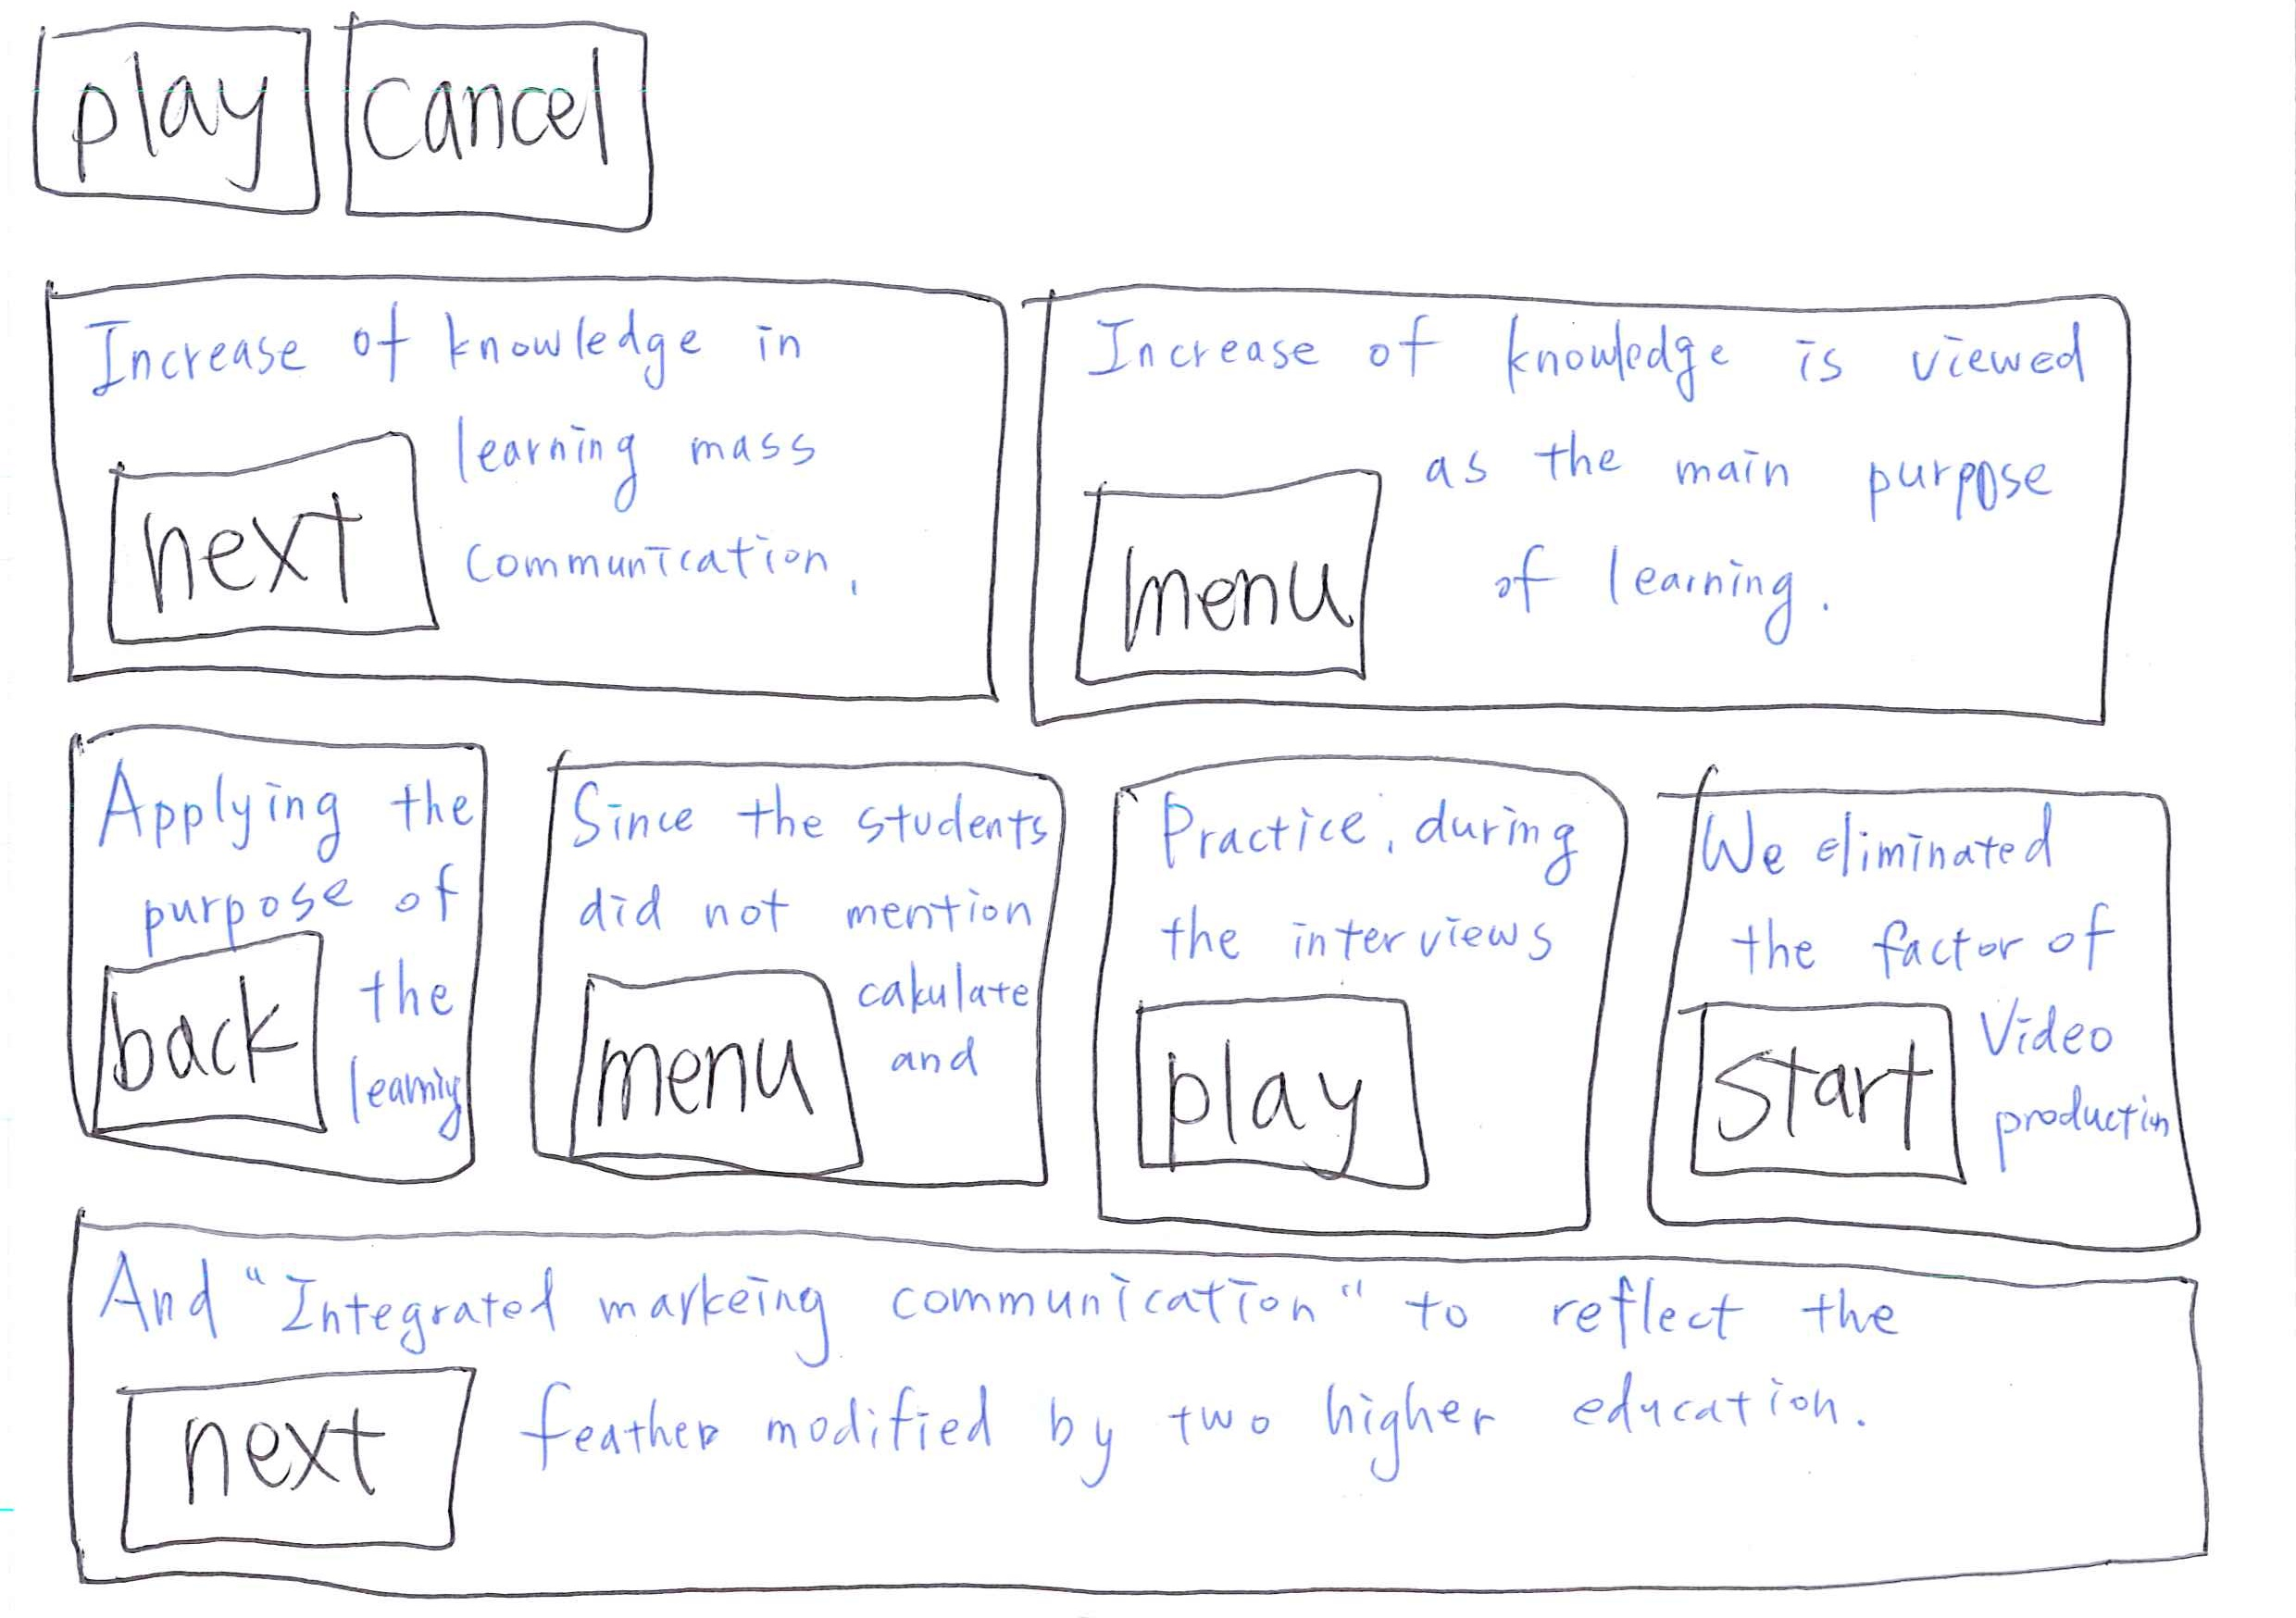back: (89, 925, 342, 1161)
cancel: (320, 2, 692, 247)
double: (1012, 210, 2259, 762), (28, 219, 1025, 739)
menu: (548, 947, 883, 1198), (1042, 457, 1398, 690)
next: (103, 1350, 506, 1557), (81, 431, 448, 655)
play: (1103, 981, 1450, 1203), (19, 11, 329, 236)
quadruple: (1609, 725, 2242, 1271), (1060, 732, 1643, 1240), (504, 718, 1088, 1224), (33, 688, 524, 1199)
row: (2, 725, 2296, 1261), (2, 247, 2296, 755), (2, 1228, 2296, 1611), (2, 2, 2292, 270)
single: (25, 1198, 2229, 1616)
small-title: (117, 1261, 1912, 1378), (1068, 317, 2088, 419), (82, 287, 830, 396), (567, 781, 1044, 883), (1121, 791, 1594, 893), (95, 769, 462, 870), (1706, 813, 2098, 897)
start: (1660, 988, 1988, 1205)
text: (1406, 412, 2075, 651), (539, 1366, 1911, 1460), (455, 396, 877, 641), (1965, 912, 2142, 1182), (867, 881, 1033, 1100), (576, 883, 1042, 956), (1723, 907, 2137, 984), (363, 870, 448, 1131), (1175, 916, 1559, 968), (107, 874, 464, 916)
